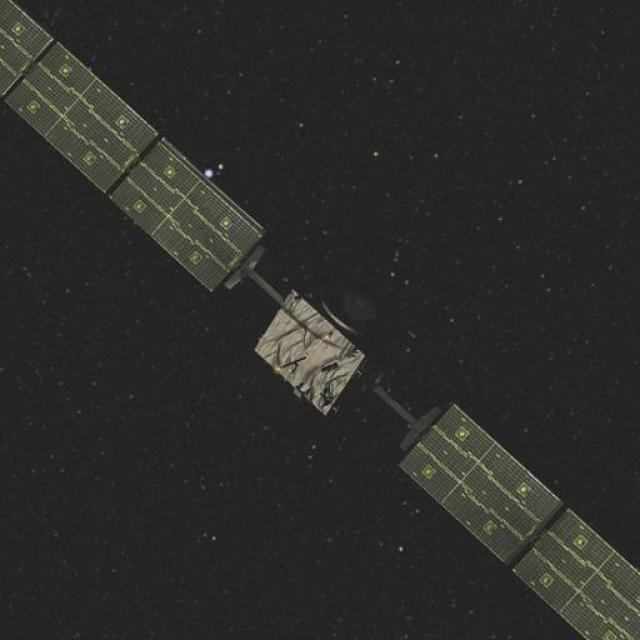smart_1: (229, 238, 479, 502)
